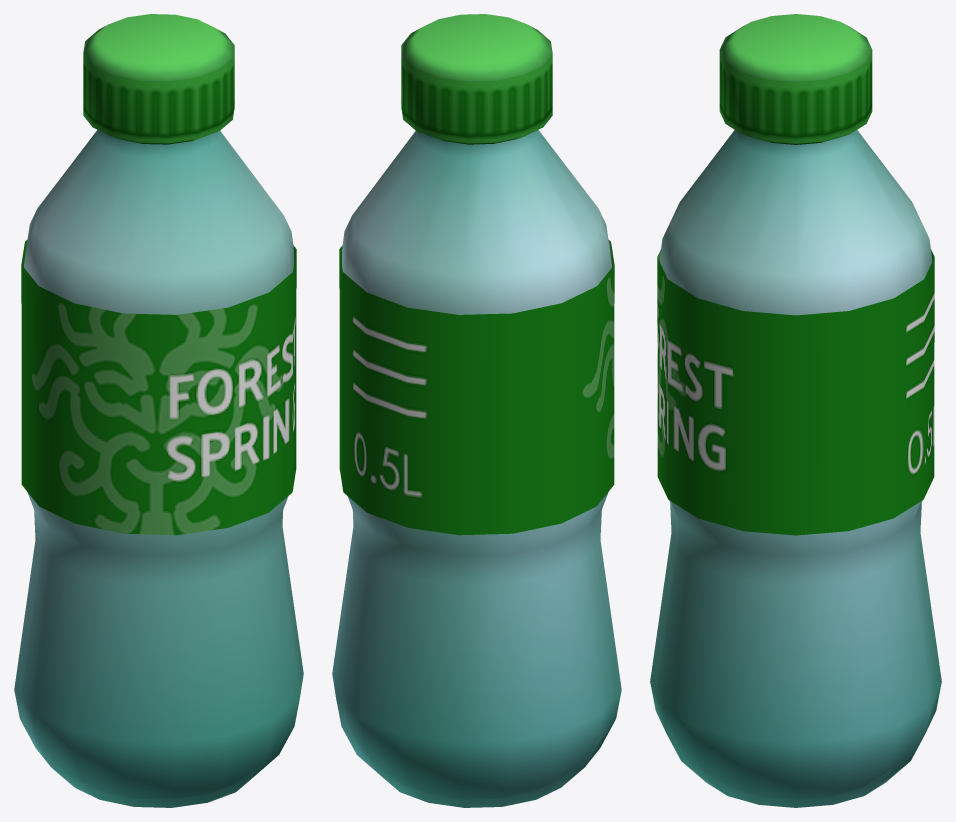
File: 004-Water_3.FBX
The picture shows the model from 3 angles, left to right: view 1: azimuth 30°, elevation 25°; view 2: azimuth 150°, elevation 25°; view 3: azimuth 270°, elevation 25°; orthographic projection.
Parts seen in each view (by area): view 1: Water_Bottle_03, Water_Bottle_Label_03; view 2: Water_Bottle_03, Water_Bottle_Label_03; view 3: Water_Bottle_03, Water_Bottle_Label_03.
Part boxes in pixels (<box>): Water_Bottle_03: <box>14,130,303,807</box>; Water_Bottle_Label_03: <box>21,14,296,535</box>; Water_Bottle_03: <box>332,130,621,807</box>; Water_Bottle_Label_03: <box>339,14,614,535</box>; Water_Bottle_03: <box>650,130,941,807</box>; Water_Bottle_Label_03: <box>657,14,934,535</box>.
Bounding box in the file's own units: 12.42 × 34.13 × 12.42.
